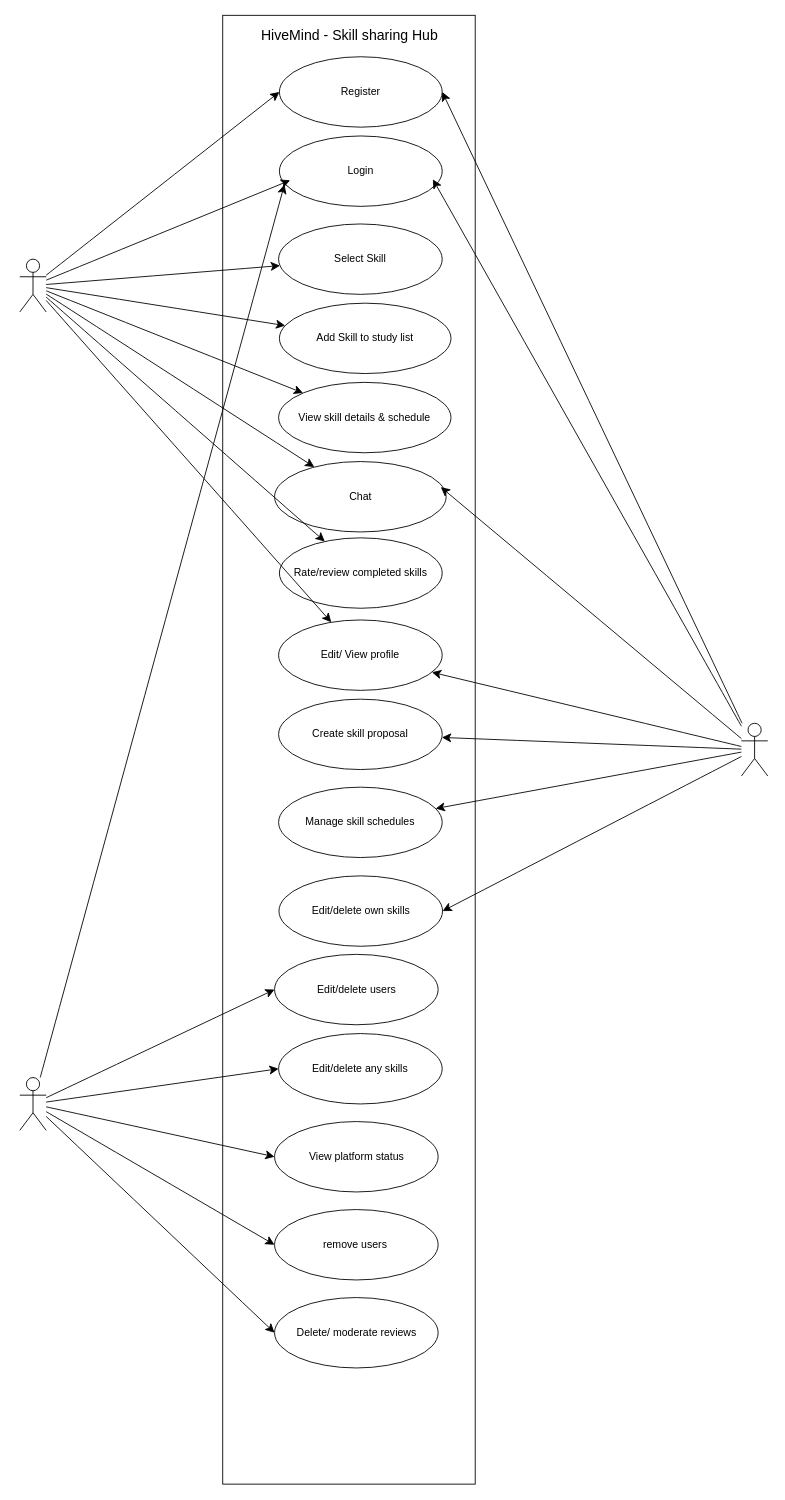
This 785x1500 diagram has some shape labels left out. The shapes that lost their labels are listed below. From the top down, each one's centre as x and y in pixels, then its label:
At point 32,285: "Student".
At point 754,749: "Expert".
At point 32,1103: "Admin".
